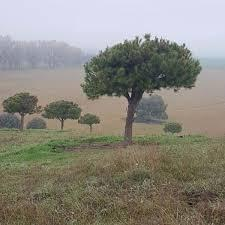tree: (81, 33, 205, 138), (2, 88, 44, 133), (41, 98, 81, 132)
